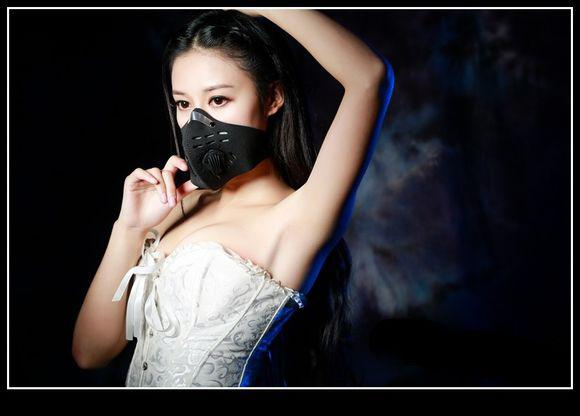WRONG: (171, 83, 270, 182)
